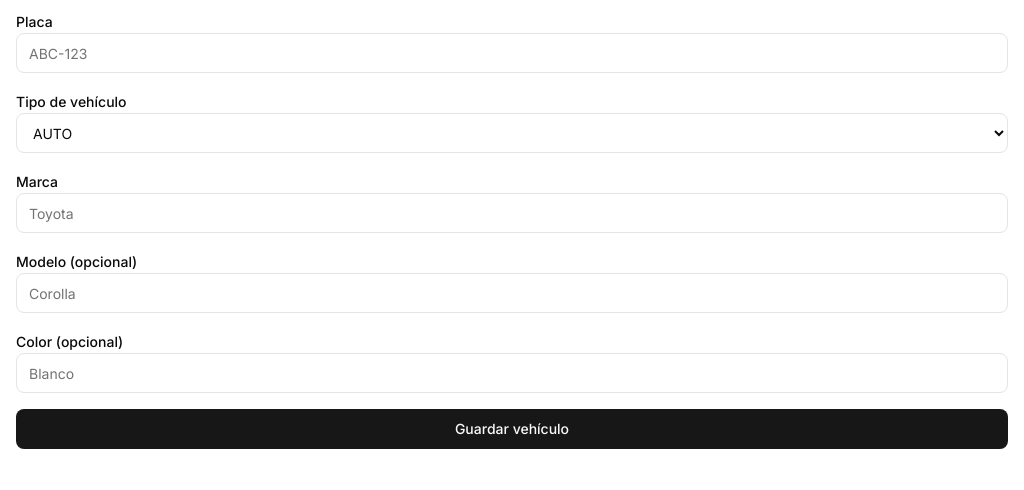
Test: VehicleForm › validates placa format
The image size is (1024, 490).
In the field labelled "Placa": point(512, 53) [16,33,1008,73], type "INVALID"
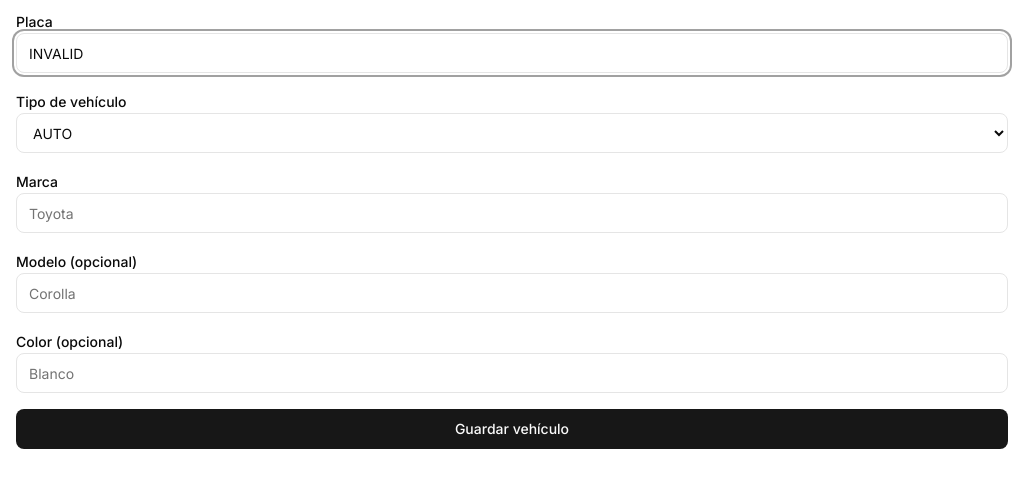
Click the button "Guardar vehículo": point(512, 429) [16,409,1008,449]
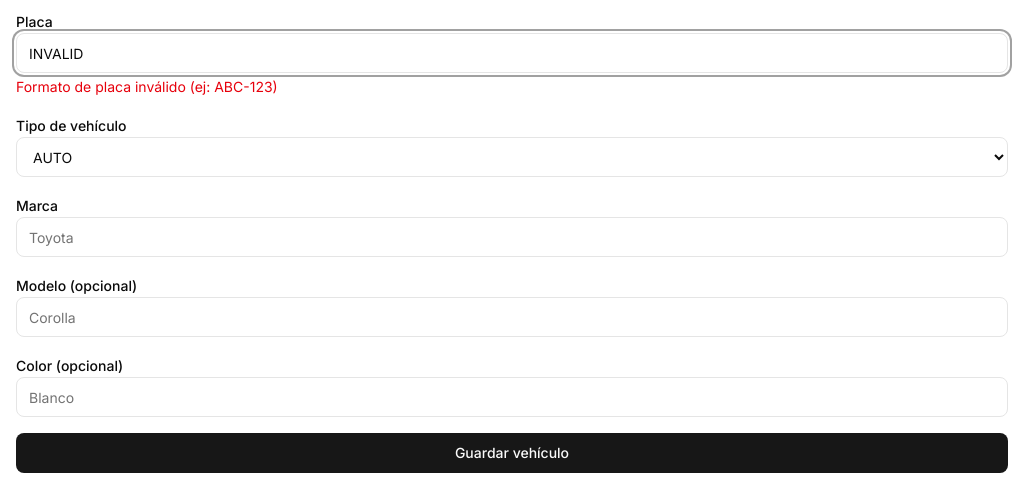
Check: the text "Formato de placa inválido (ej: ABC-123)" is shown, box [16,78,278,95]
